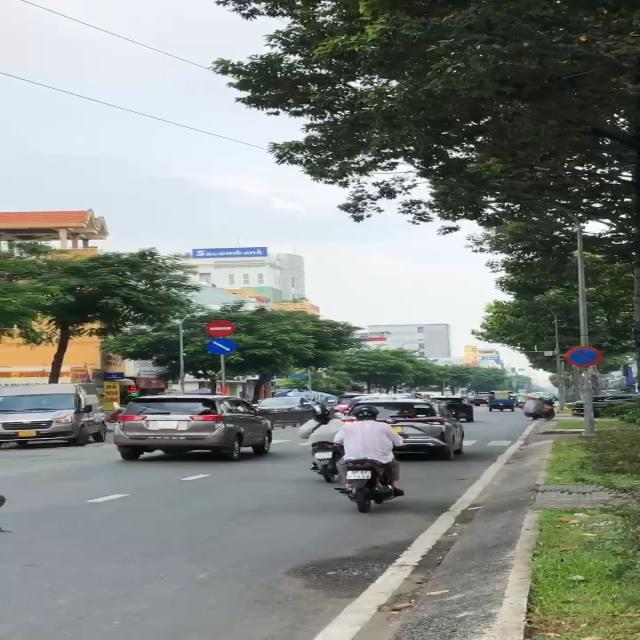Bien bao cam di nguoc chieu: (203, 320, 238, 338)
Bien bao huong phai di vong chuong ngai vat: (205, 337, 240, 357)
